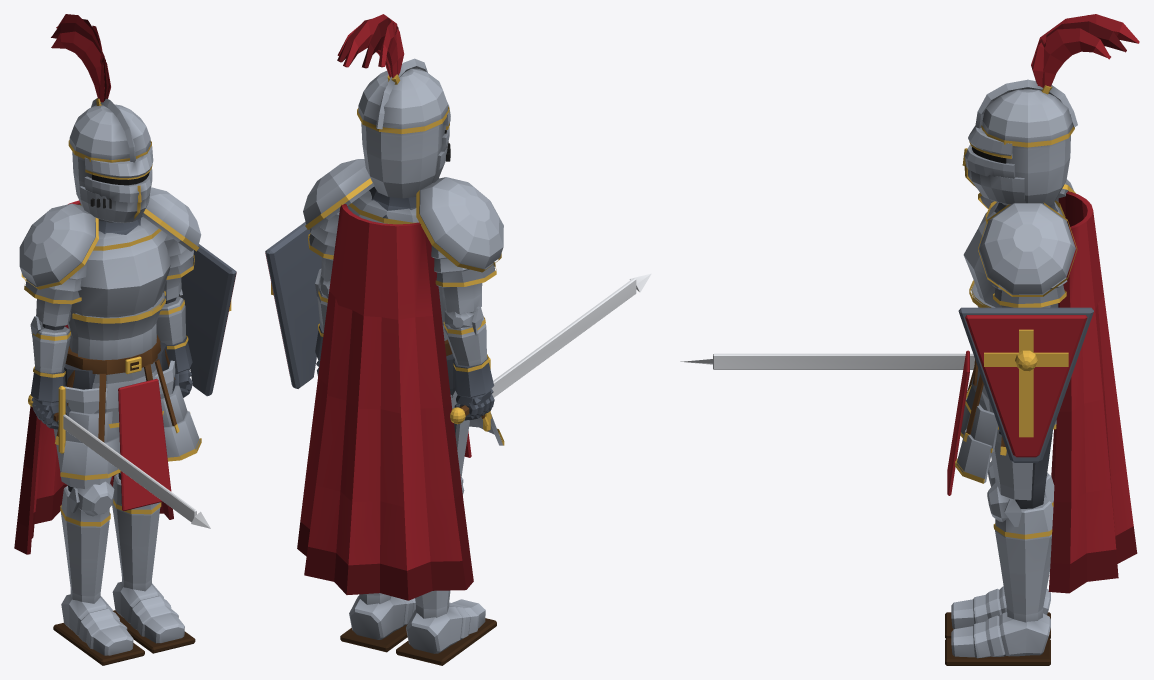
Rendered from knight.glb.
3 renders of one model, left to right at view 1: azimuth 30°, elevation 25°; view 2: azimuth 150°, elevation 25°; view 3: azimuth 270°, elevation 25°, orthographic. The views are drawn at different scales.
Visible parts, largest first — view 1: Torso, ArmR_Pauldron, ShieldRim, Fauld, Tabard, Cape, Belt, Helmet, HelmetDome, LegR_Sabaton, LegL_Sabaton, ArmL_Pauldron (+20 smaller); view 2: Cape, ArmR_Pauldron, ShieldRim, Helmet, HelmetDome, ArmL_Pauldron, Blade, LegR_Foot, Plume, ArmR_Vambrace, LegL_Foot, LegR_Sole (+10 smaller); view 3: Cape, Shield, ArmL_Pauldron, Helmet, ShieldRim, LegL_Sabaton, HelmetDome, Blade, Plume, LegL_Foot, LegL_Thigh, Fauld (+8 smaller).
Part boxes in pixels (left/top/right/bottom): Torso: left=67, top=217, right=170, bottom=360; ArmR_Pauldron: left=19, top=203, right=95, bottom=326; ShieldRim: left=181, top=244, right=236, bottom=396; Fauld: left=61, top=361, right=200, bottom=475; Tabard: left=118, top=378, right=171, bottom=510; Cape: left=14, top=200, right=173, bottom=554; Belt: left=55, top=228, right=201, bottom=480; Helmet: left=72, top=143, right=153, bottom=222; HelmetDome: left=69, top=98, right=150, bottom=162; LegR_Sabaton: left=61, top=486, right=109, bottom=603; LegL_Sabaton: left=112, top=473, right=160, bottom=591; ArmL_Pauldron: left=142, top=187, right=201, bottom=300; Cape: left=297, top=204, right=473, bottom=600; ArmR_Pauldron: left=419, top=177, right=503, bottom=314; ShieldRim: left=265, top=222, right=321, bottom=388; Helmet: left=361, top=102, right=450, bottom=198; HelmetDome: left=358, top=58, right=447, bottom=134; ArmL_Pauldron: left=303, top=159, right=374, bottom=281; Blade: left=450, top=273, right=651, bottom=431; LegR_Foot: left=406, top=599, right=485, bottom=653; Plume: left=337, top=14, right=404, bottom=84; ArmR_Vambrace: left=443, top=306, right=489, bottom=372; LegL_Foot: left=349, top=595, right=415, bottom=639; LegR_Sole: left=396, top=618, right=496, bottom=665; Cape: left=1048, top=191, right=1137, bottom=593; Shield: left=965, top=315, right=1087, bottom=457; ArmL_Pauldron: left=979, top=203, right=1075, bottom=307; Helmet: left=964, top=126, right=1070, bottom=205; ShieldRim: left=958, top=307, right=1093, bottom=462; LegL_Sabaton: left=995, top=496, right=1053, bottom=622; HelmetDome: left=975, top=79, right=1077, bottom=147; Blade: left=680, top=353, right=974, bottom=369; Plume: left=1031, top=14, right=1139, bottom=94; LegL_Foot: left=951, top=612, right=1050, bottom=658; LegL_Thigh: left=981, top=385, right=1052, bottom=508; Fauld: left=956, top=368, right=1056, bottom=483.
Bounding box in the file's own units: 0.7338 × 2.12 × 1.41.
